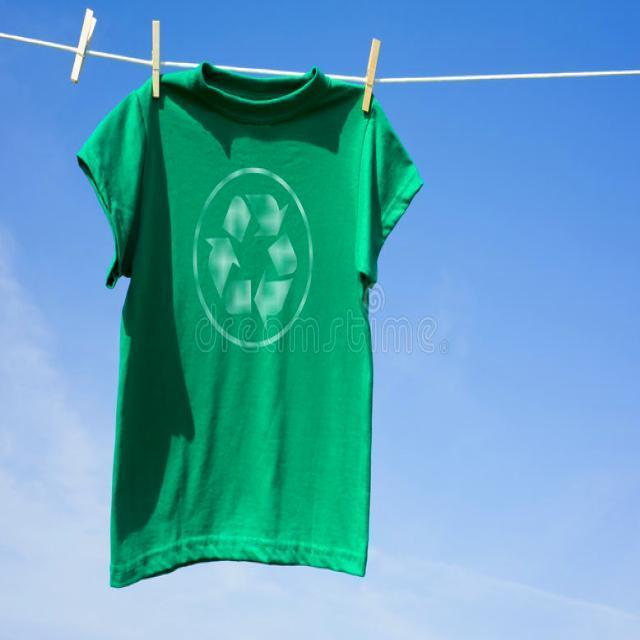clothes: (112, 71, 386, 594)
